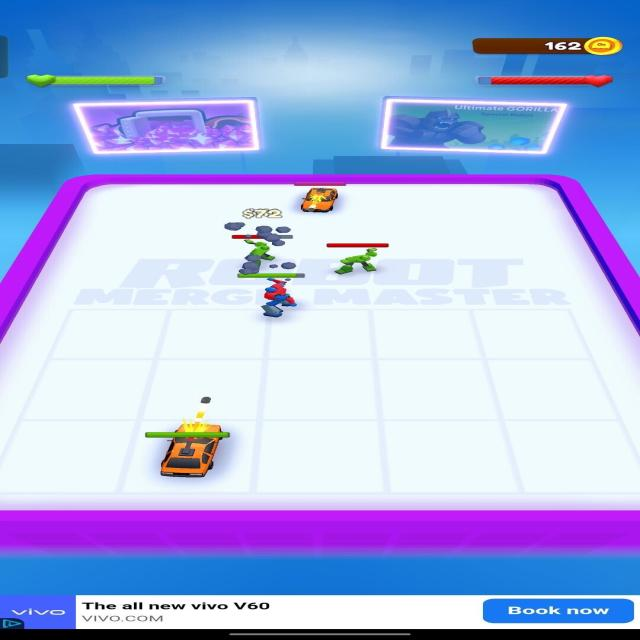billboard: (383, 99, 571, 154), (74, 100, 257, 155)
